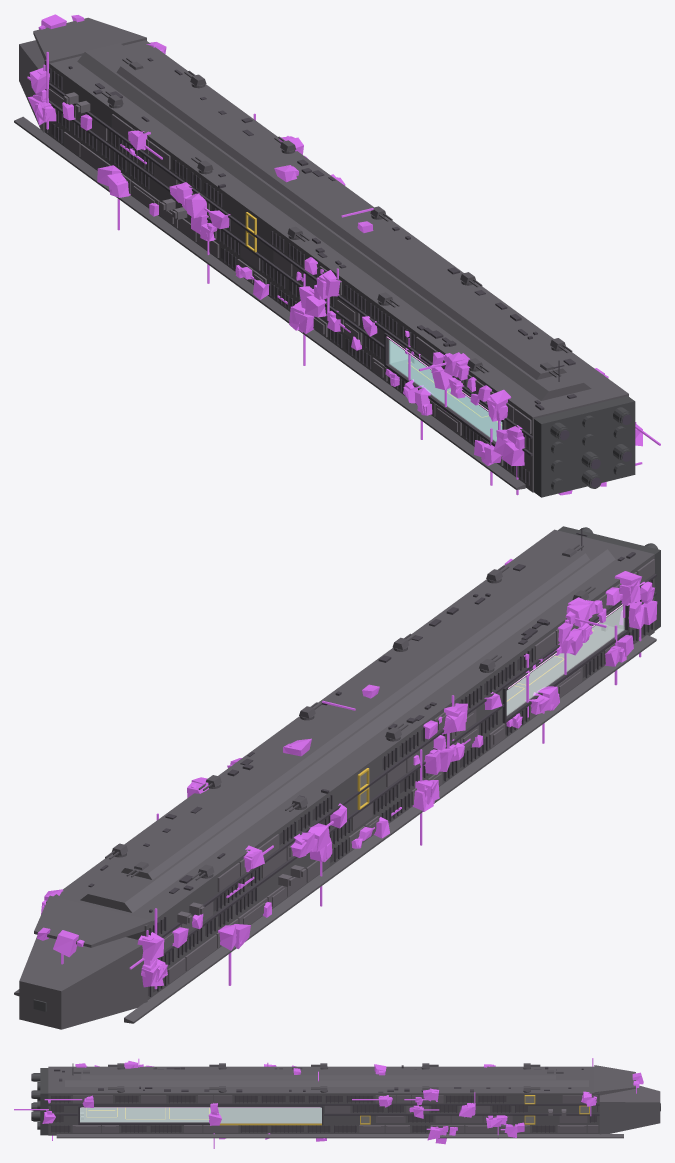
File: ship_XL_v3.glb
3 views of the same model, one above another, from view 1: azimuth 30°, elevation 25°; view 2: azimuth 150°, elevation 25°; view 3: azimuth 270°, elevation 25° (orthographic). The views are drawn at different scales.
Visible parts, largest first — view 1: XL_Hull-col, XL_Growth, XL_Trim, XL_Engines, XL_Armor, XL_Accent, XL_HangarShield_Port, XL_Decks-col, XL_Details; view 2: XL_Hull-col, XL_Growth, XL_Trim, XL_Armor, XL_Accent, XL_HangarShield_Port, XL_Decks-col, XL_Details, XL_Engines; view 3: XL_Hull-col, XL_Armor, XL_Trim, XL_Accent, XL_Growth, XL_HangarShield_Starboard, XL_Decks-col, XL_CargoBayShield, XL_CargoBayDoor-col, XL_Engines, XL_Hazard, XL_Details (+1 smaller).
Part boxes in pixels (x1,y1,x2,y2): XL_Hull-col: (14,17,628,492); XL_Growth: (27,14,660,495); XL_Trim: (46,68,532,485); XL_Engines: (534,396,635,497); XL_Armor: (45,86,531,465); XL_Accent: (48,69,530,483); XL_HangarShield_Port: (389,340,502,441); XL_Decks-col: (391,359,502,440); XL_Details: (68,57,576,410); XL_Hull-col: (14,529,656,1029); XL_Growth: (37,559,657,989); XL_Trim: (149,574,656,996); XL_Armor: (159,559,654,983); XL_Accent: (148,581,651,995); XL_HangarShield_Port: (506,606,624,715); XL_Decks-col: (506,625,622,714); XL_Details: (88,528,635,912); XL_Engines: (33,526,660,1011); XL_Hull-col: (48,1065,660,1138); XL_Armor: (72,1095,598,1132); XL_Trim: (48,1095,599,1132); XL_Accent: (51,1096,597,1131); XL_Growth: (14,1058,643,1148); XL_HangarShield_Starboard: (80,1107,210,1122); XL_Decks-col: (80,1107,210,1122); XL_CargoBayShield: (218,1107,321,1123); XL_CargoBayDoor-col: (218,1107,321,1122); XL_Engines: (31,1068,660,1135); XL_Hazard: (86,1095,589,1125); XL_Details: (54,1063,583,1092).
Bounding box in the file's own units: 34.79 × 32.34 × 236.
